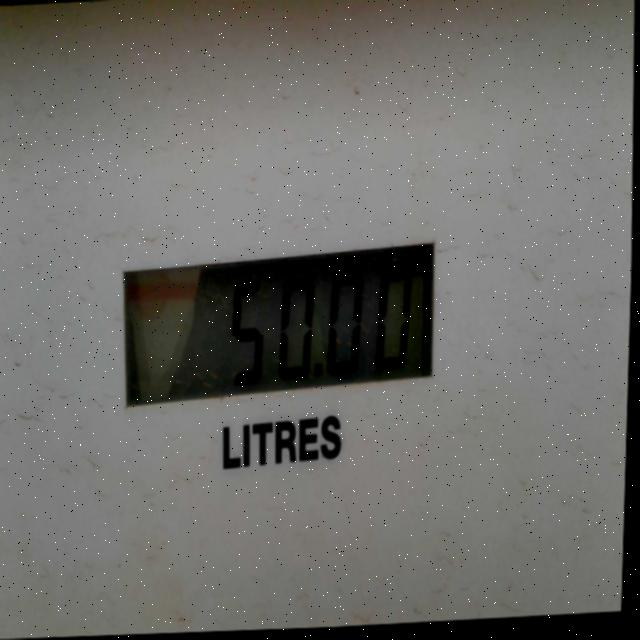.: (313, 353, 328, 394)
0: (273, 271, 325, 388), (372, 263, 421, 381), (328, 266, 371, 394)
5: (220, 273, 272, 392)
